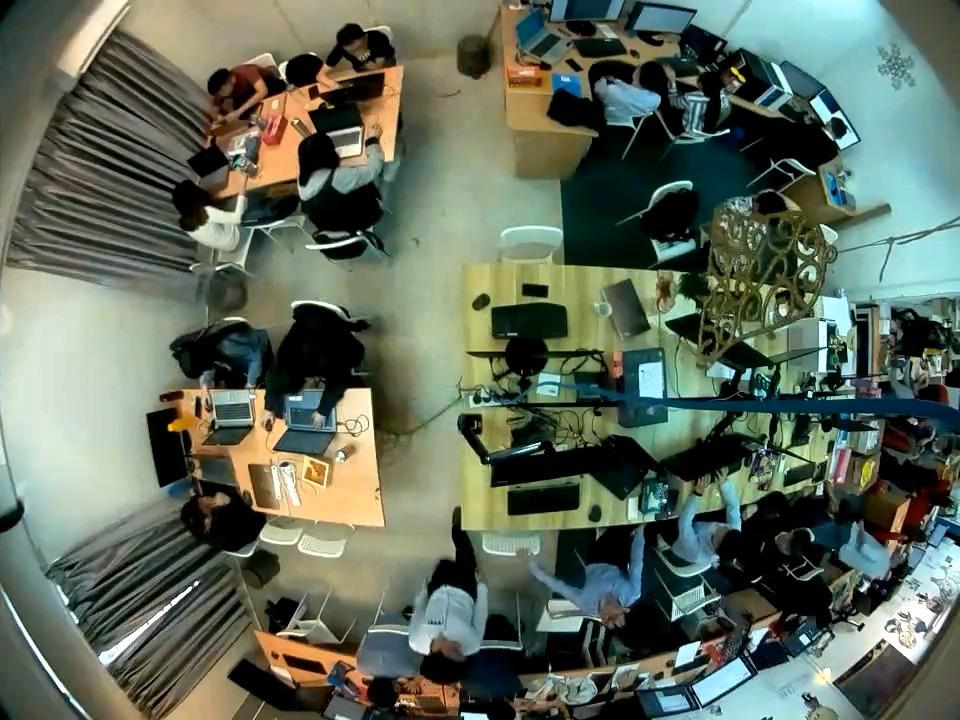name-tag: (426, 618, 444, 626)
